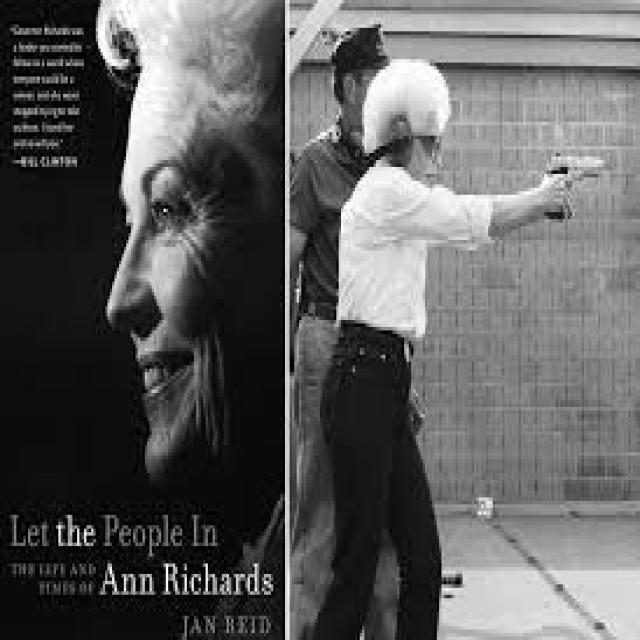weapons: (530, 125, 618, 243)
